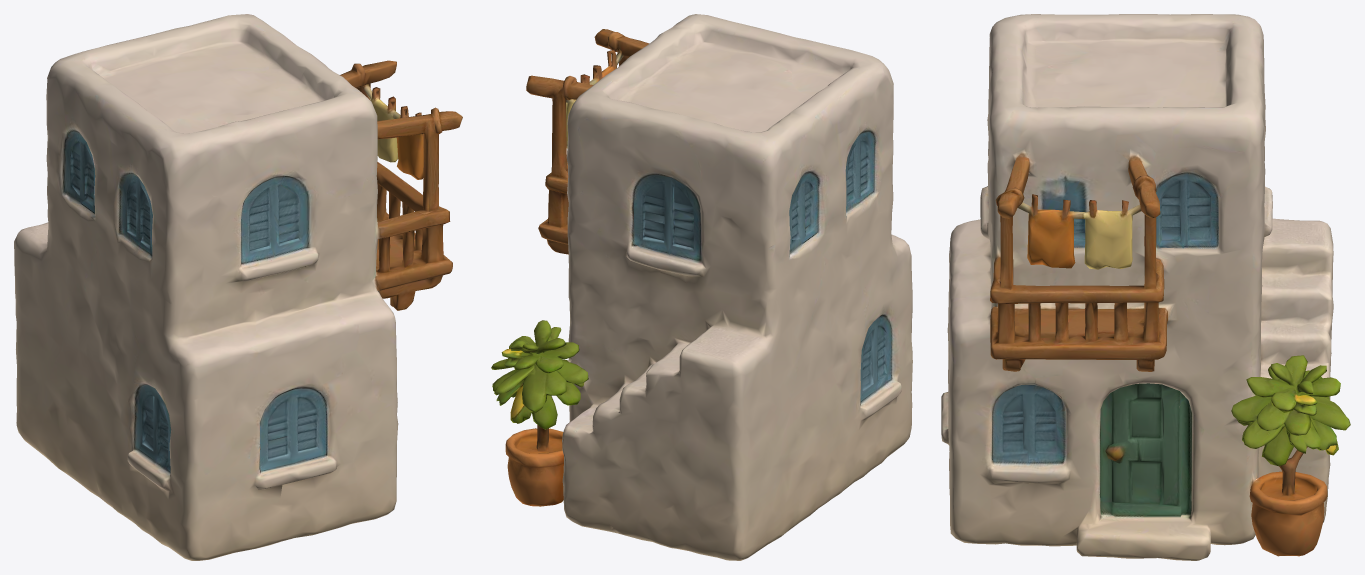
Rendered from house_d.glb.
The picture shows the model from 3 angles, left to right: view 1: azimuth 30°, elevation 25°; view 2: azimuth 150°, elevation 25°; view 3: azimuth 270°, elevation 25°; orthographic projection. The views are drawn at different scales.
Visible parts, largest first — view 1: tripo_node_6db46ac0-6db1-4b55-9400-5eb25a2b4664; view 2: tripo_node_6db46ac0-6db1-4b55-9400-5eb25a2b4664; view 3: tripo_node_6db46ac0-6db1-4b55-9400-5eb25a2b4664.
Boxes of the visible parts, <box> form: tripo_node_6db46ac0-6db1-4b55-9400-5eb25a2b4664: <box>14,14,462,560</box>; tripo_node_6db46ac0-6db1-4b55-9400-5eb25a2b4664: <box>491,14,912,560</box>; tripo_node_6db46ac0-6db1-4b55-9400-5eb25a2b4664: <box>941,14,1350,560</box>.
Bounding box in the file's own units: 0.7866 × 1 × 0.8571.
1 material, 1 textured.
